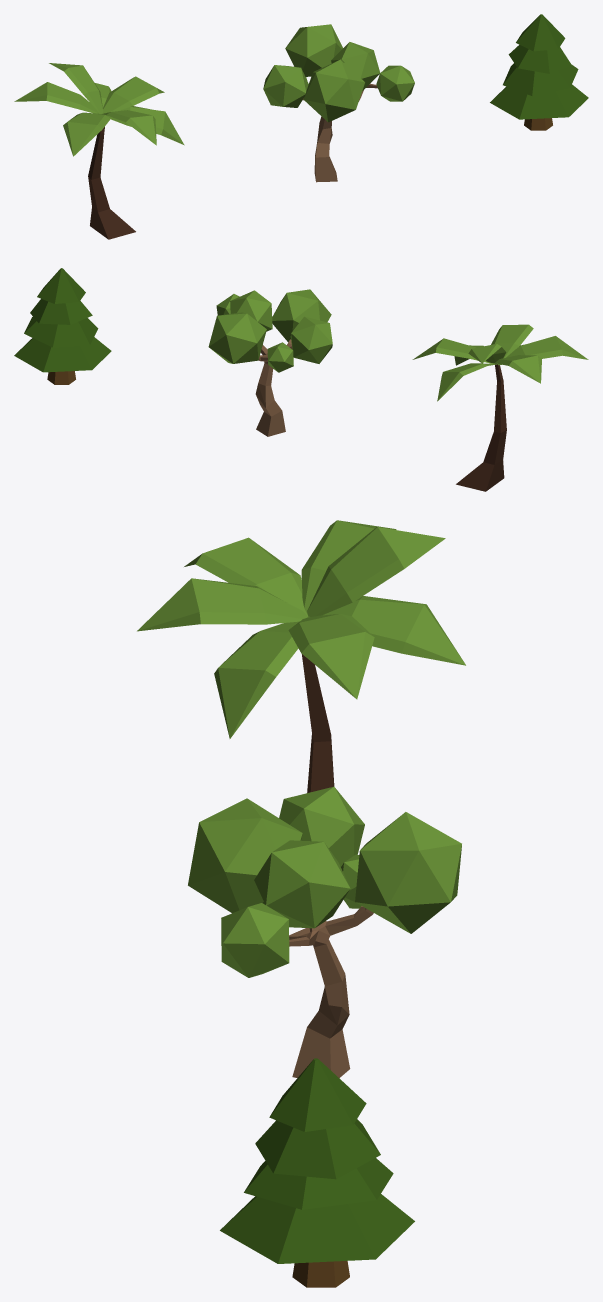
The model's file is tree.glb.
The picture shows the model from 3 angles, top to bottom: view 1: azimuth 30°, elevation 25°; view 2: azimuth 150°, elevation 25°; view 3: azimuth 270°, elevation 25°; orthographic projection. The views are drawn at different scales.
Visible parts, largest first — view 1: tree_1, tree_3, tree_2; view 2: tree_1, tree_3, tree_2; view 3: tree_1, tree_3, tree_2.
Part boxes in pixels (bbox=[...]): tree_1: bbox=[263, 24, 414, 182]; tree_3: bbox=[14, 63, 184, 239]; tree_2: bbox=[490, 14, 588, 130]; tree_1: bbox=[208, 289, 332, 436]; tree_3: bbox=[412, 324, 588, 491]; tree_2: bbox=[14, 268, 111, 384]; tree_1: bbox=[188, 786, 461, 1077]; tree_3: bbox=[137, 520, 465, 792]; tree_2: bbox=[220, 1058, 414, 1287].
Bounding box in the file's own units: 12.83 × 3.56 × 3.42.
1 material, 1 textured.
